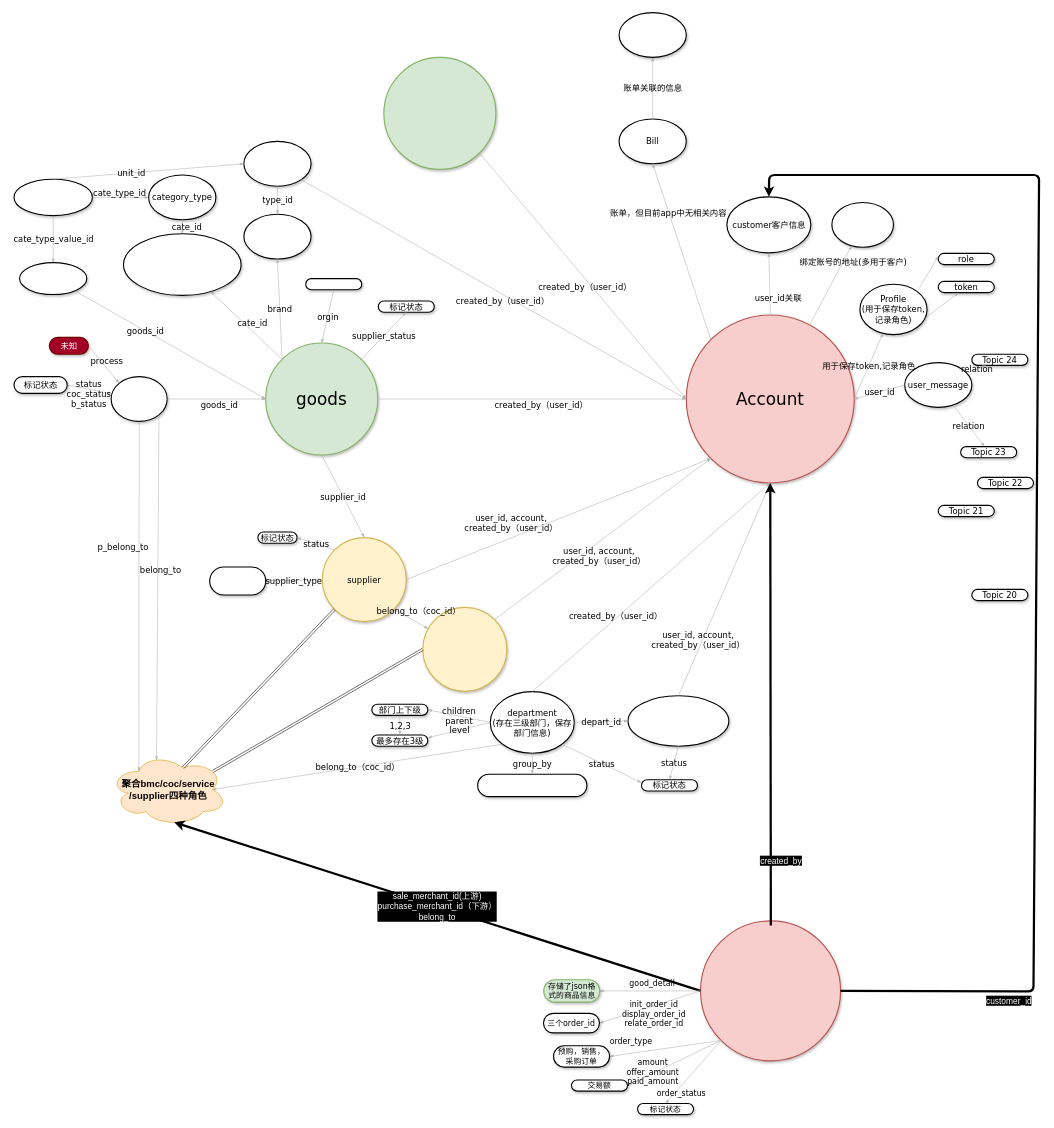
Image size: 1054x1128. Some labels were removed from this diagram. The centre of each missing label's shape, as x and y in pixels:
"AddressBook" goes at point 863,225.
"Bill_Relate" goes at point 653,36.
"category (用于材料分类，大类和小类存储在一起，通过parent自关联实现分类)" goes at point 182,265.
"category_type_value" goes at point 53,198.
"coc/bmc" goes at point 465,650.
"department_member" goes at point 678,721.
"goods_attr" goes at point 53,279.
"goods_price" goes at point 139,400.
"order" goes at point 770,991.
"scheme" goes at point 440,114.
"unit" goes at point 278,164.
"unit_type" goes at point 278,237.
"供货商/ 服务商" goes at point 238,581.
"是否全国发布" goes at point 334,285.
"部门类型（coc，bmc..）" goes at point 533,786.
